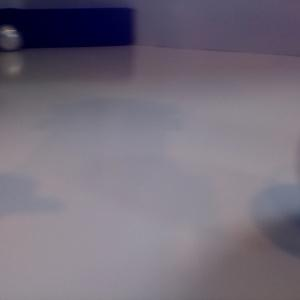zone: (1, 7, 135, 50)
